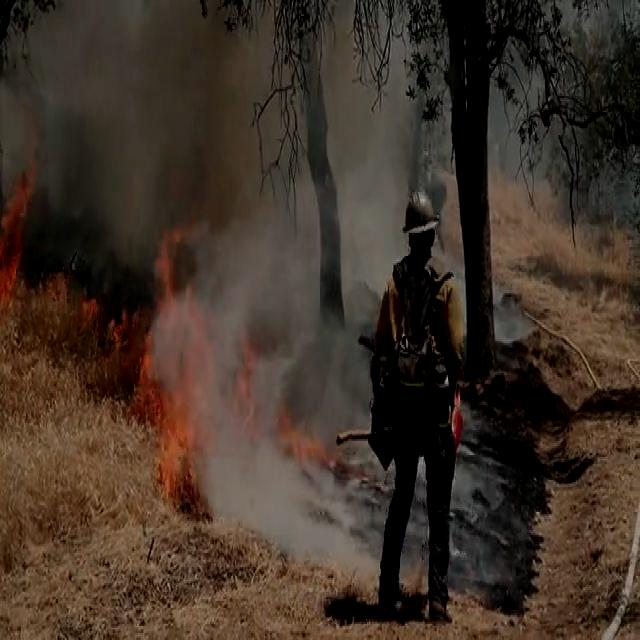fire: (144, 329, 191, 432), (151, 231, 201, 323), (163, 416, 206, 506), (230, 338, 266, 432), (276, 398, 304, 448), (4, 194, 26, 248), (18, 163, 36, 207), (1, 252, 20, 293)
smoke: (224, 438, 270, 522), (223, 213, 268, 295), (350, 181, 386, 270), (270, 452, 306, 540), (260, 253, 299, 314), (368, 152, 402, 217)
